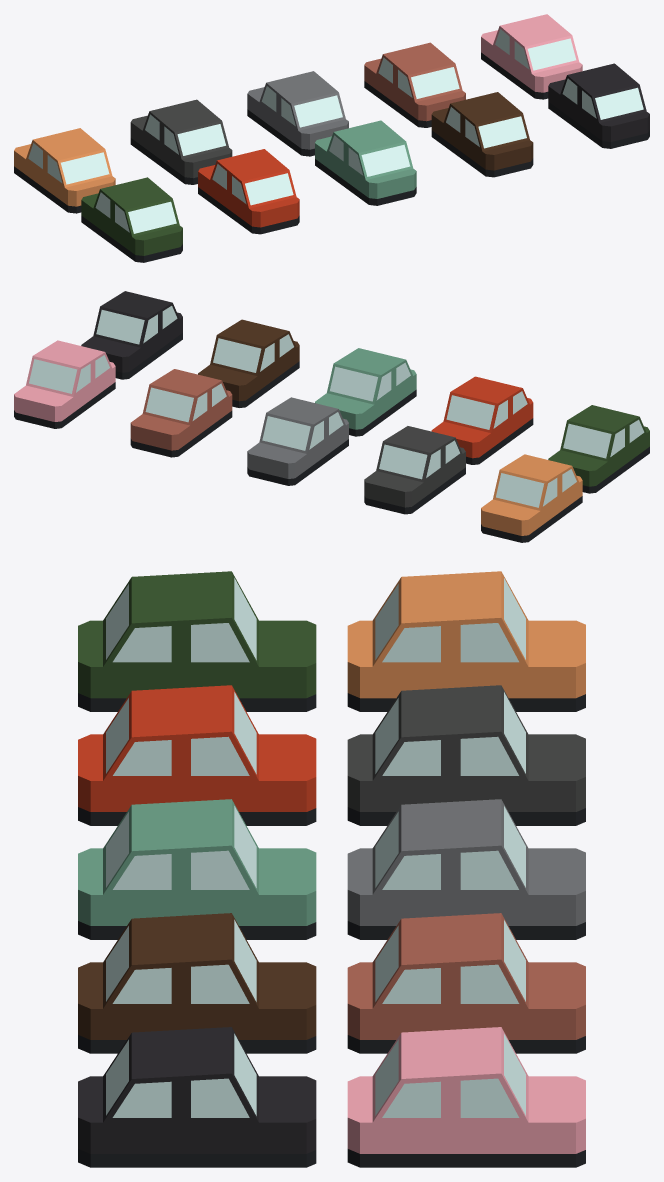
The model's file is Car.fbx.
3 views of the same model, one above another, from view 1: azimuth 30°, elevation 25°; view 2: azimuth 150°, elevation 25°; view 3: azimuth 270°, elevation 25° (orthographic). The views are drawn at different scales.
Visible parts, largest first — view 1: car8, car9, car5, car6, car7, car1, car2, car4, car3, car; view 2: car3, car4, car2, car1, car, car6, car7, car5, car8, car9; view 3: car4, car9, car7, car8, car2, car5, car1, car, car6, car3.
Boxes of the visible parts, box(x1,y1,x2,y2) form: car8: box(431, 92, 533, 177); car9: box(548, 63, 649, 148); car5: box(81, 177, 182, 262); car6: box(198, 149, 299, 234); car7: box(315, 120, 416, 205); car1: box(130, 99, 232, 184); car2: box(247, 71, 348, 156); car4: box(481, 14, 582, 99); car3: box(364, 42, 465, 127); car: box(14, 128, 115, 213); car3: box(130, 369, 232, 457); car4: box(14, 340, 115, 428); car2: box(247, 397, 348, 485); car1: box(364, 426, 465, 514); car: box(481, 454, 582, 542); car6: box(431, 376, 533, 464); car7: box(315, 348, 416, 436); car5: box(548, 405, 649, 493); car8: box(198, 319, 299, 407); car9: box(81, 291, 182, 379); car4: box(347, 1027, 585, 1167); car9: box(78, 1027, 316, 1167); car7: box(78, 799, 316, 939); car8: box(78, 913, 316, 1053); car2: box(347, 799, 585, 939); car5: box(78, 571, 316, 711); car1: box(347, 685, 585, 825); car: box(347, 571, 585, 711); car6: box(78, 685, 316, 825); car3: box(347, 913, 585, 1053).
Size of the model in its own units: 220 by 19.28 by 94.25.
